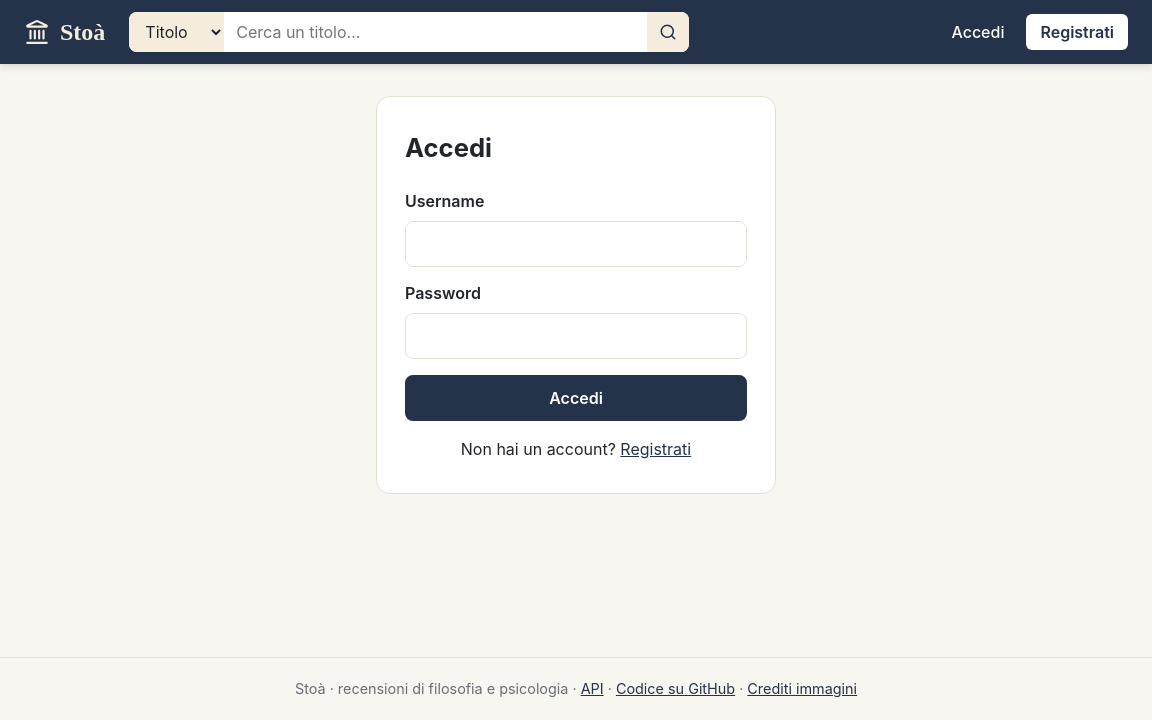
Test: login › shows the server error for wrong credentials
Type "mario" into the field labelled "Username" at (576, 244), box [405, 221, 747, 267]
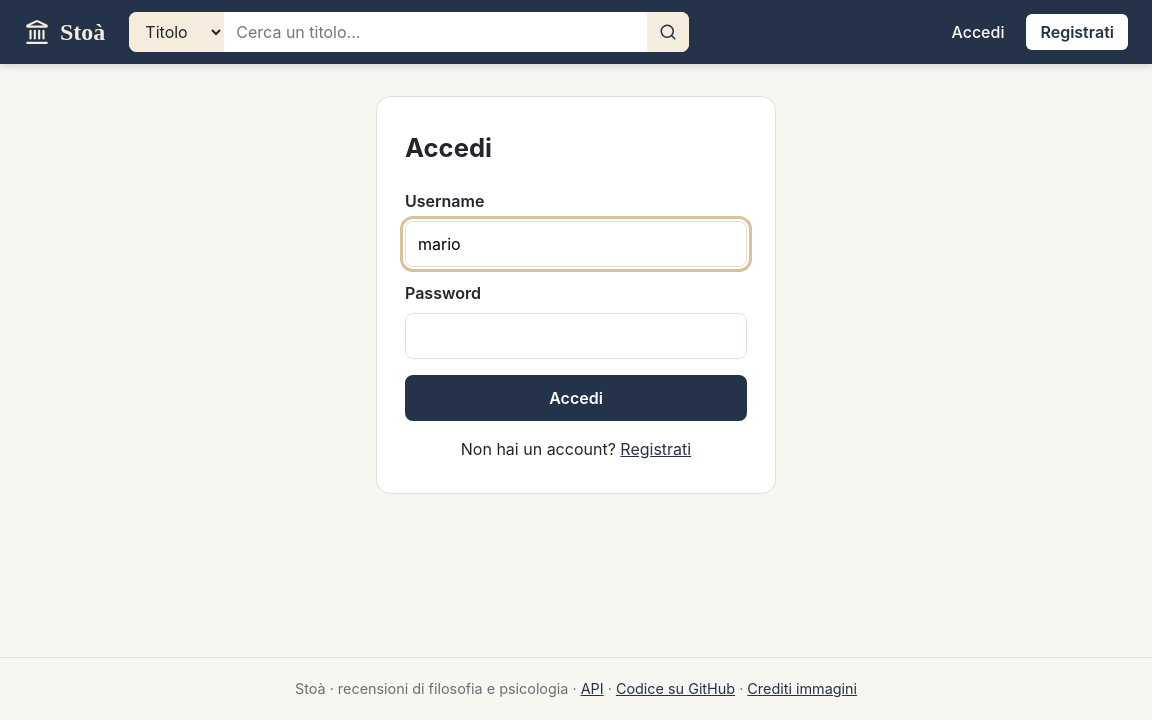
Type "sbagliata" into the password field labelled "Password" at (576, 336), box [405, 313, 747, 359]
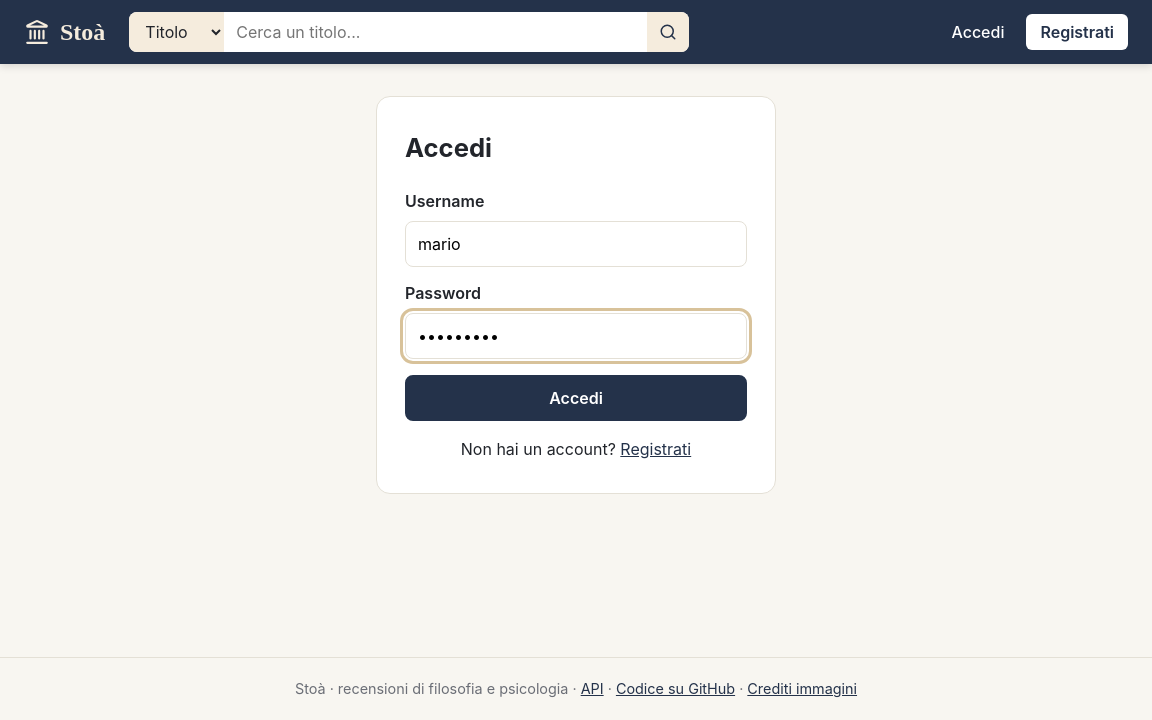
Click the button "Accedi" at (576, 398), box [405, 375, 747, 421]
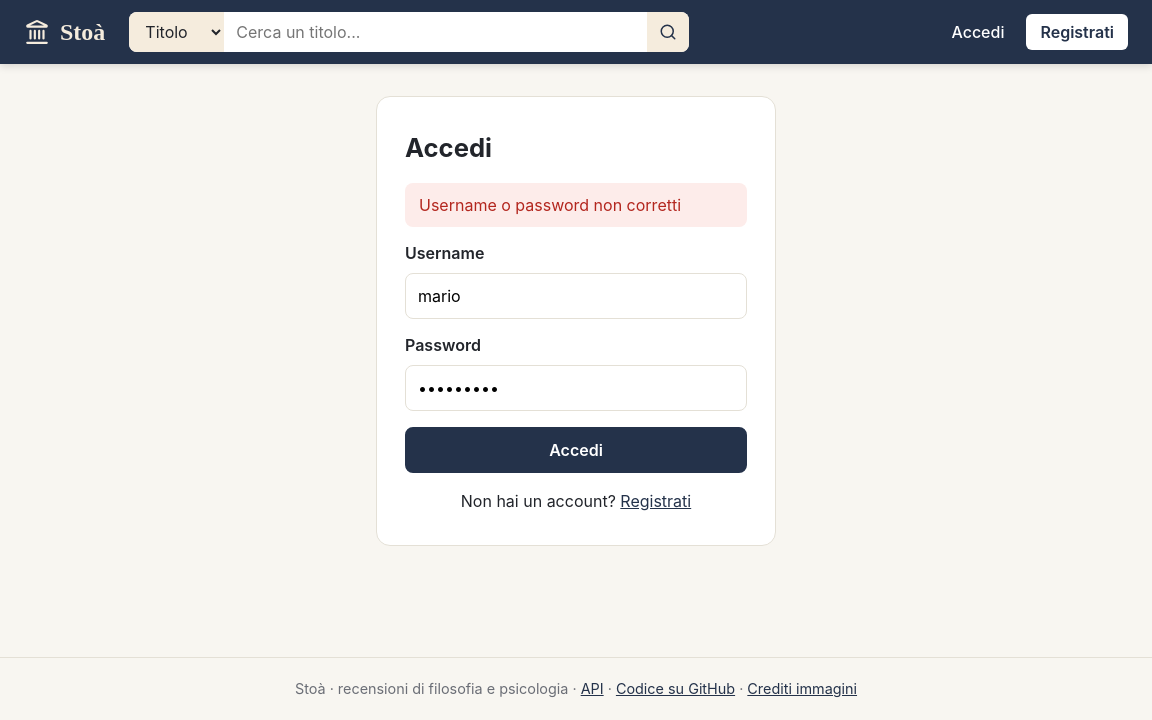
Expected: the message reads "Username o password non corretti", [419, 195, 681, 215]
